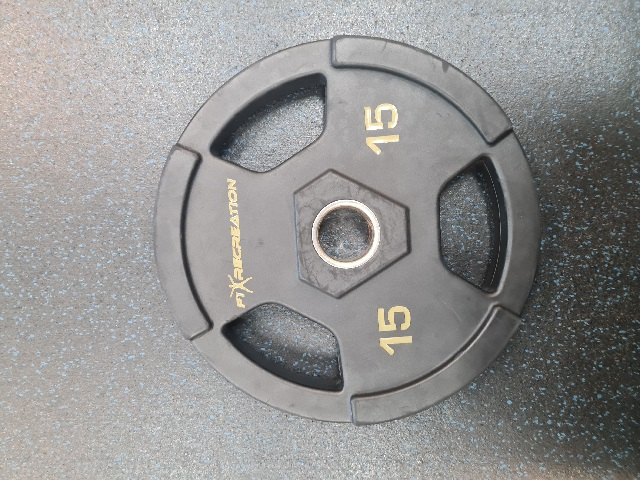weights: (154, 33, 543, 427)
